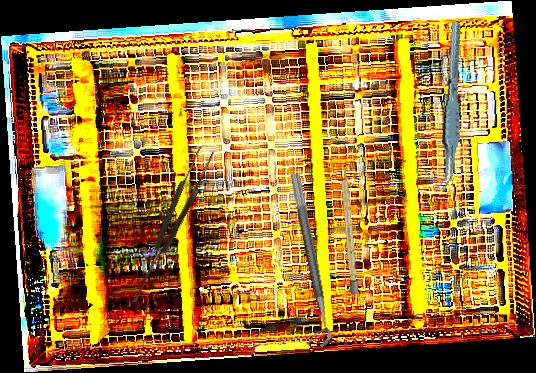Fixation Ring: (275, 172, 334, 350)
Scalpel Handle: (339, 163, 359, 295)
Tissue Forceps: (124, 144, 217, 307), (422, 21, 480, 192)
